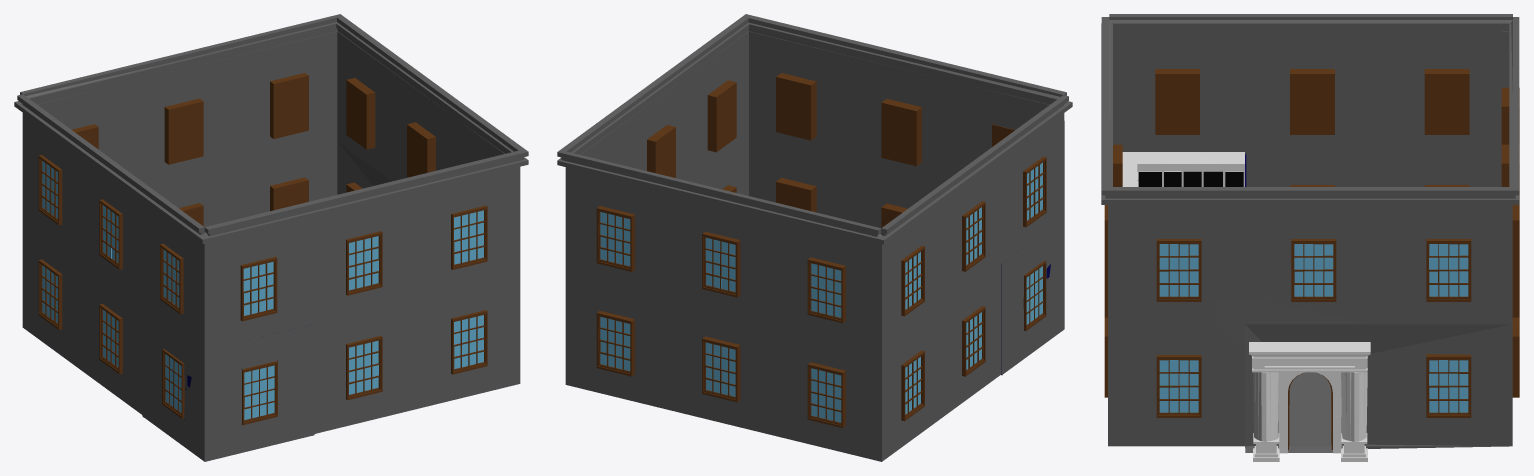
File: NoMoreDoor.fbx
3 renders of one model, left to right at view 1: azimuth 30°, elevation 25°; view 2: azimuth 150°, elevation 25°; view 3: azimuth 270°, elevation 25°, orthographic. The views are drawn at different scales.
Visible parts, largest first — view 1: Walls; view 2: Walls; view 3: Walls, Floor.
Boxes of the visible parts, box(x1,y1,x2,y2) form: Walls: box(14, 14, 528, 461); Walls: box(557, 14, 1072, 461); Walls: box(1101, 14, 1519, 461); Floor: box(1245, 154, 1488, 452).
Size of the model in its own units: 1943 by 1298 by 1861.
